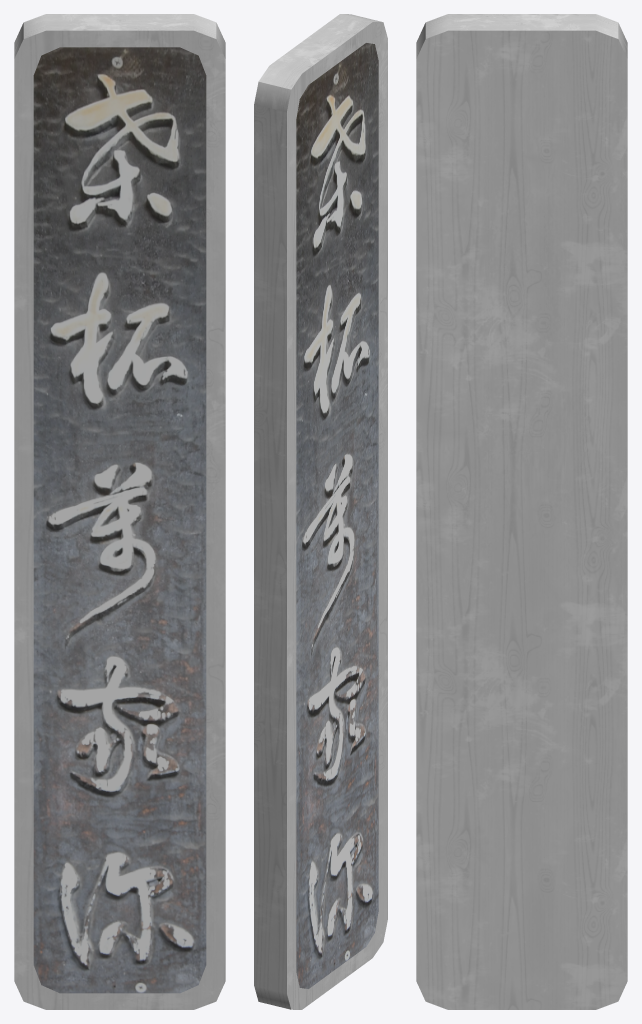
Rendered from SM_R_Yuyotaek11.fbx.
3 views of the same model, side by side, from view 1: azimuth 90°, elevation 25°; view 2: azimuth 150°, elevation 25°; view 3: azimuth 270°, elevation 25° (orthographic). The views are drawn at different scales.
Parts seen in each view (by area): view 1: SM_R_Yuyotaek11; view 2: SM_R_Yuyotaek11; view 3: SM_R_Yuyotaek11.
Boxes of the visible parts, x1,y1,x2,y2 form: SM_R_Yuyotaek11: (14,14,225,1009); SM_R_Yuyotaek11: (254,14,387,1009); SM_R_Yuyotaek11: (416,14,627,1009).
Bounding box in the file's own units: 3.97 × 21.22 × 108.
Materials: 1 (1 with a texture image).
